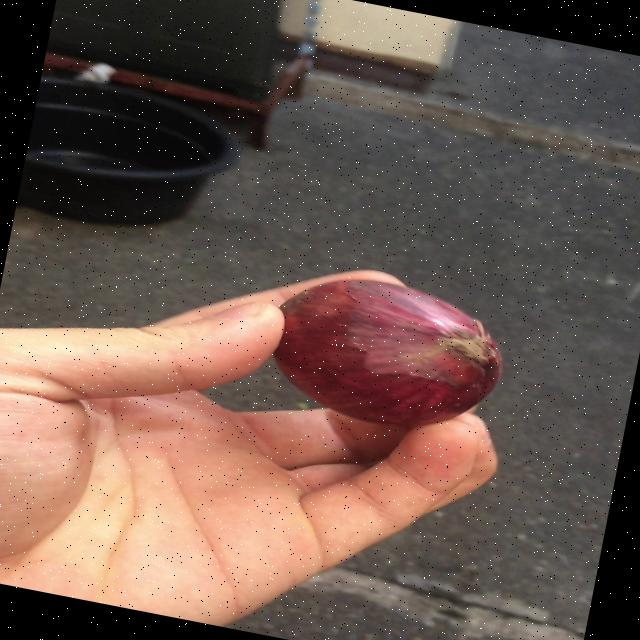Onion: (273, 280, 502, 427)
